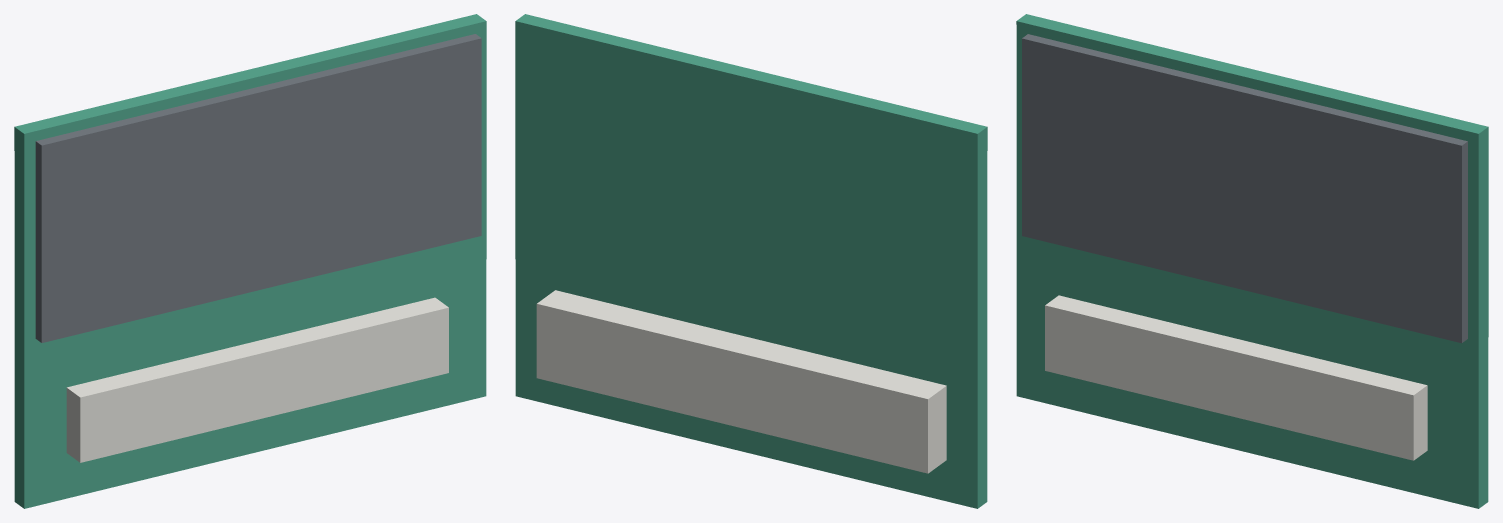
Rendered from Option_A_V16_part_4.glb.
3 renders of one model, left to right at view 1: azimuth 30°, elevation 25°; view 2: azimuth 150°, elevation 25°; view 3: azimuth 330°, elevation 25°, orthographic.
Visible parts, largest first — view 1: ic, board, conn; view 2: board, conn; view 3: ic, board, conn.
Part boxes in pixels (x1,y1,x2,y2): ic: (35, 34, 481, 342); board: (14, 14, 486, 508); conn: (66, 297, 448, 462); board: (515, 14, 987, 508); conn: (536, 290, 946, 473); ic: (1022, 34, 1467, 343); board: (1016, 14, 1488, 508); conn: (1045, 295, 1427, 460).
Bounding box in the file's own units: 21.97 × 17.03 × 3.47.
